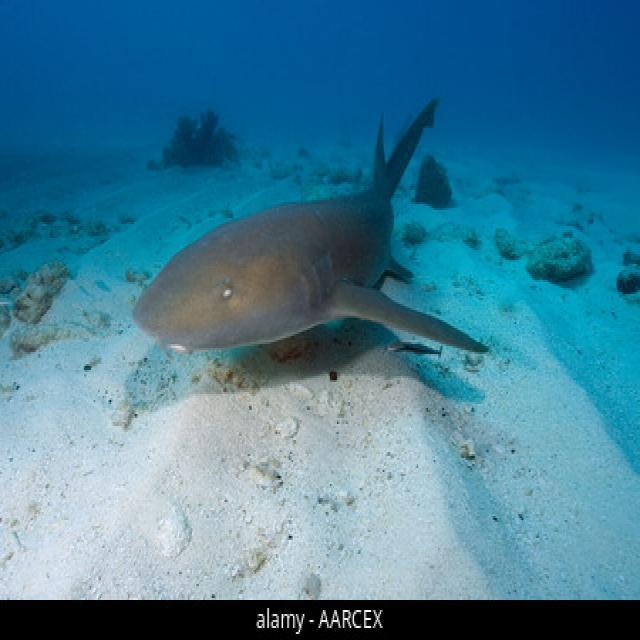Shark: (114, 70, 502, 380)
